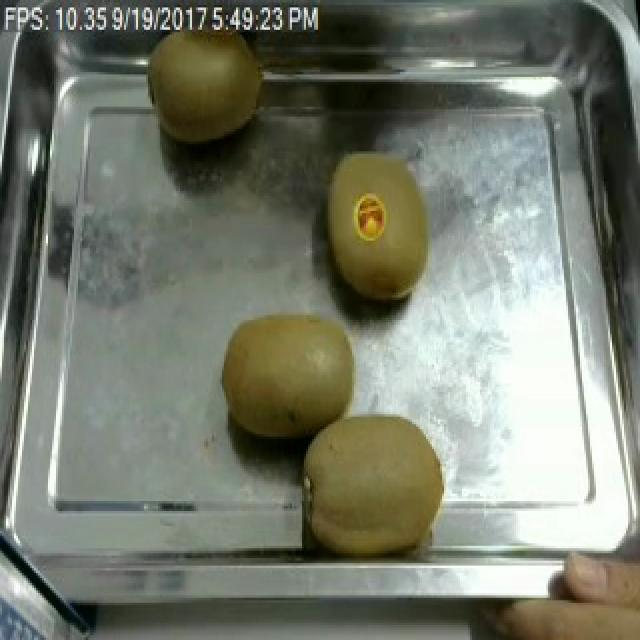Fruit: (298, 404, 454, 561), (310, 136, 444, 312), (214, 298, 370, 447), (142, 7, 268, 154)
